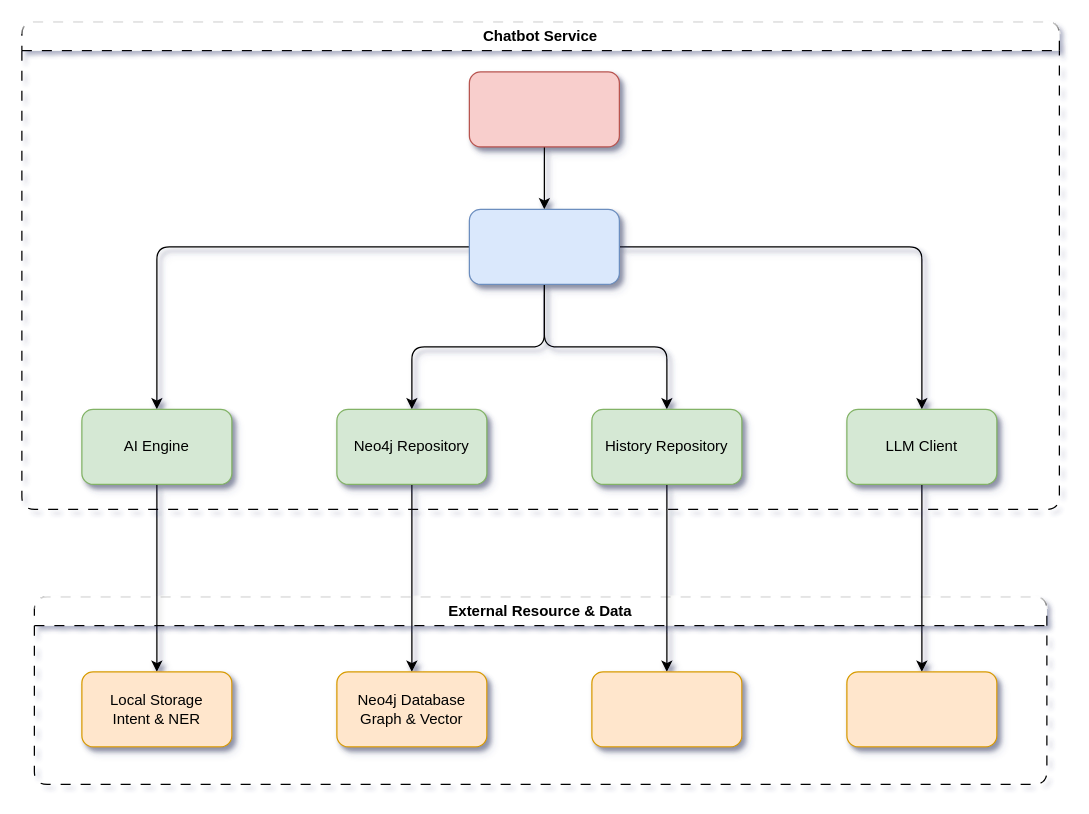
Image size: 1089x814. Some labels were removed from this diagram. Here are the shapes that lost their labels. From the top down, the centre of each, then its label:
At point (545, 111): "HTTP Handler Chat Controller".
At point (545, 248): "Chat Service".
At point (667, 711): "MongoDB Client Chat Logs".
At point (922, 711): "Google Gemini API".
